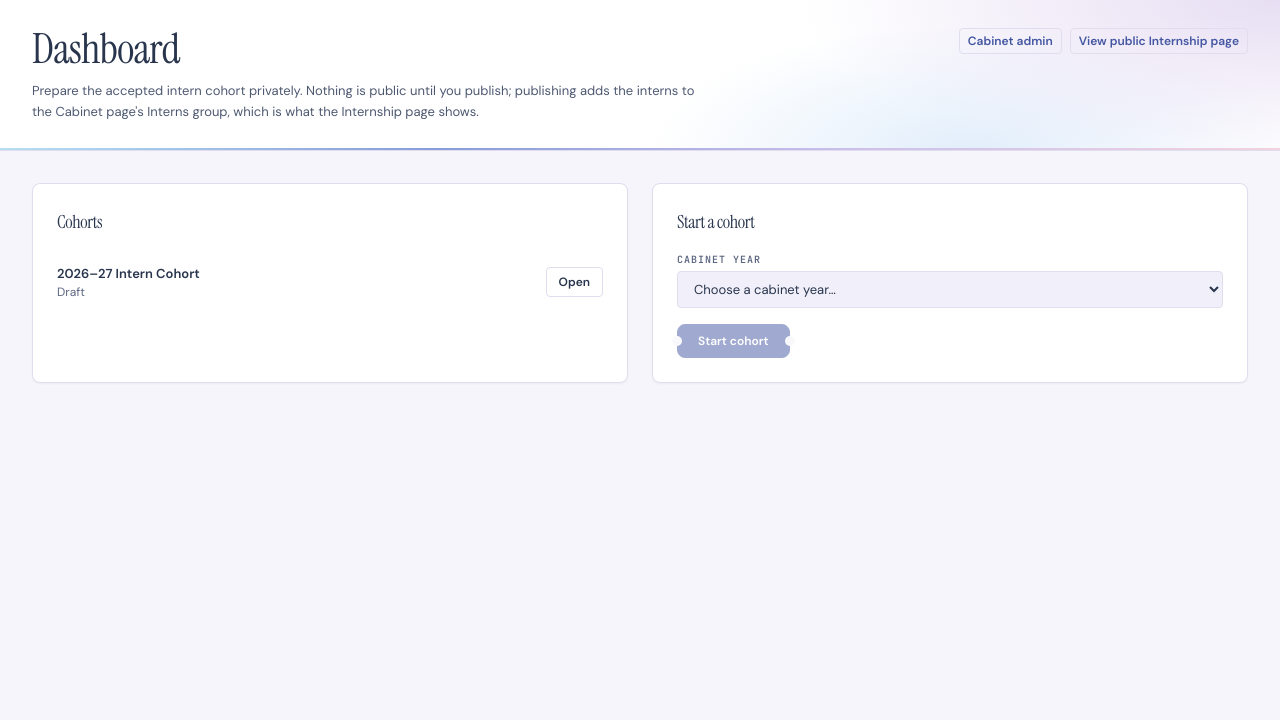
it: summarizes the cohort and shows a linked intern with member, shadow positions, and track
The image size is (1280, 720).
Click the button "Open". click: (574, 282)
box: top-left (546, 267), bottom-right (603, 297)
(page scrolled)
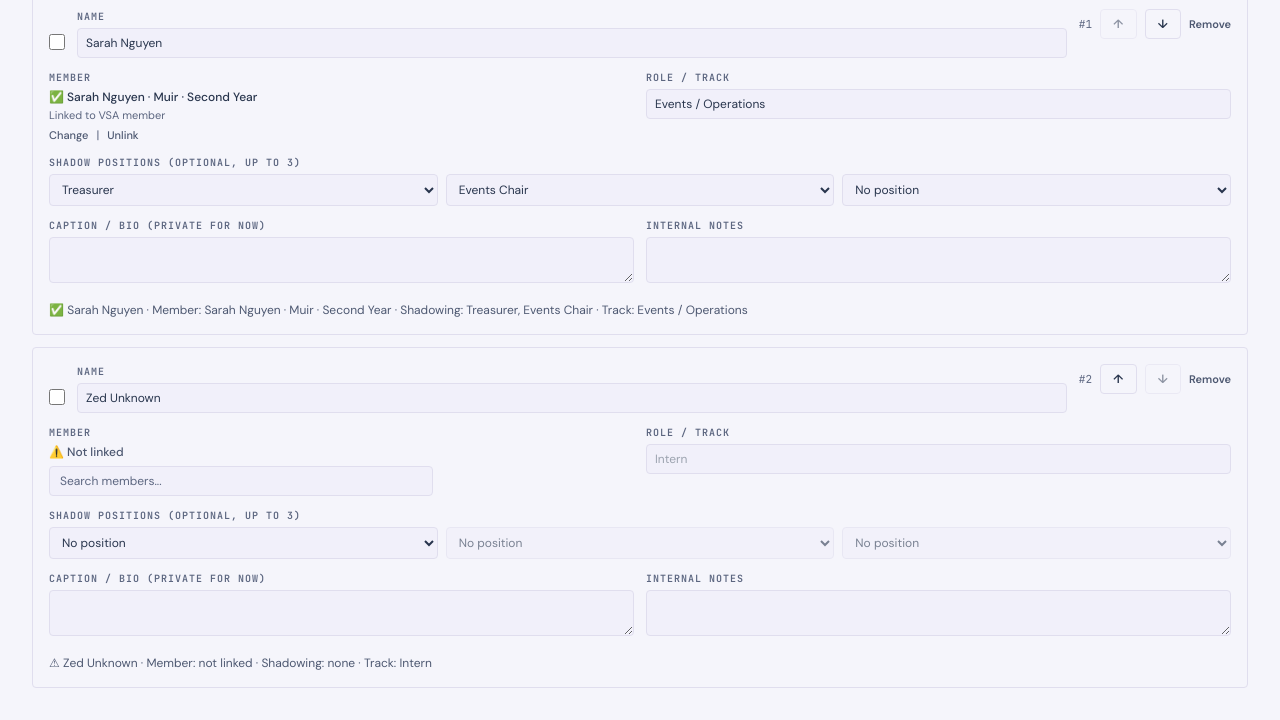
Expected: the text "✅ Sarah Nguyen · Member: Sarah Nguyen · Muir · Second Year · Shadowing: Treasurer, Events Chair · Track: Events / Opera" is shown, top-left (49, 302), bottom-right (748, 318)
Expected: the text "⚠ Zed Unknown · Member: not linked · Shadowing: none" is shown, top-left (49, 655), bottom-right (432, 671)
